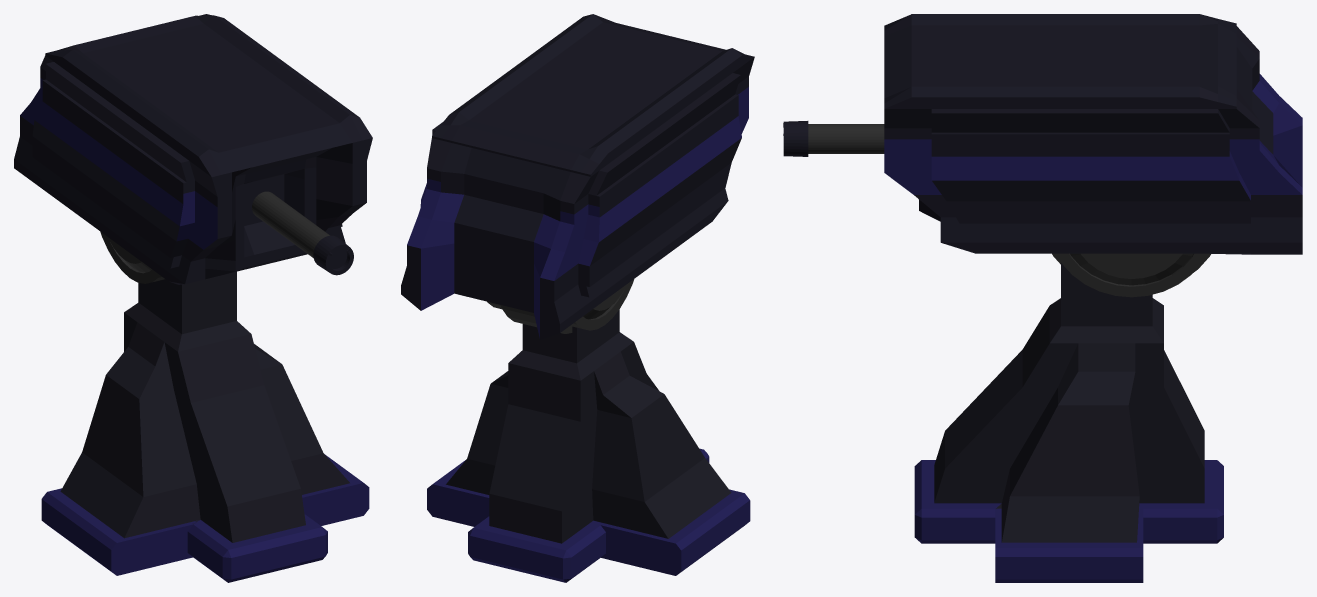
Rendered from turret.fbx.
3 renders of one model, left to right at view 1: azimuth 30°, elevation 25°; view 2: azimuth 150°, elevation 25°; view 3: azimuth 270°, elevation 25°, orthographic. The views are drawn at different scales.
Visible parts, largest first — view 1: head, base; view 2: head, base; view 3: head, base.
Boxes of the visible parts, x1=… form: head: x1=14, y1=14, x2=372, y2=284; base: x1=41, y1=271, x2=369, y2=582; head: x1=401, y1=14, x2=754, y2=339; base: x1=427, y1=309, x2=750, y2=582; head: x1=783, y1=14, x2=1302, y2=297; base: x1=914, y1=263, x2=1223, y2=582.
Bounding box in the file's own units: 131 × 215 × 216.
